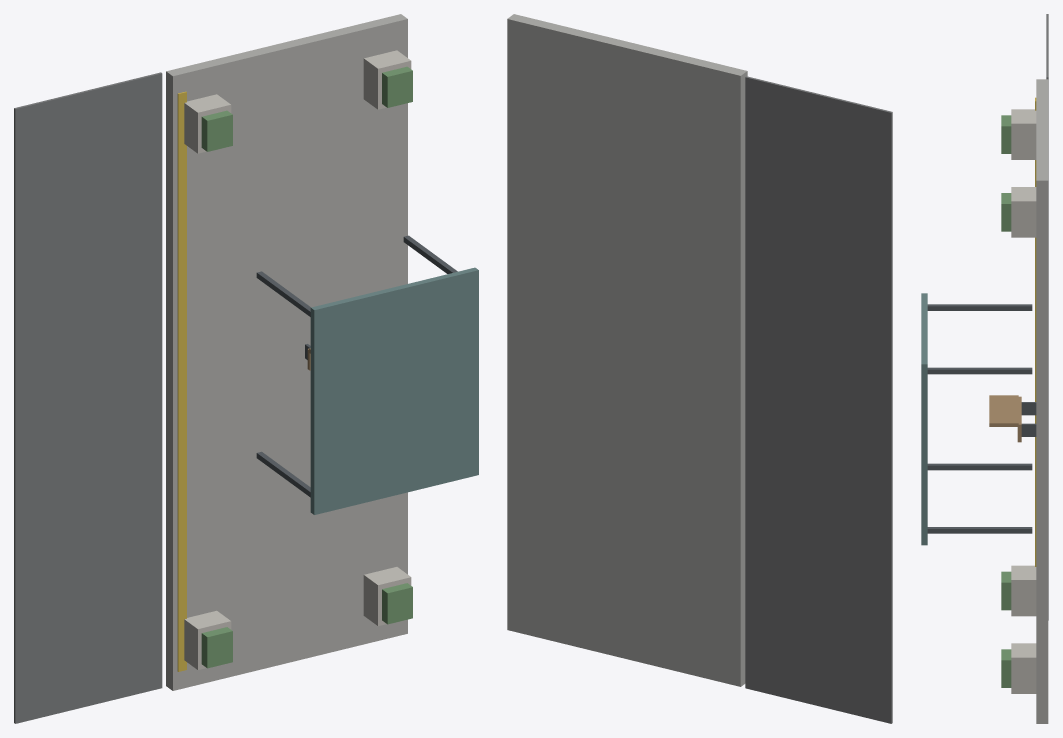
File: neighborhood_bus_bay.glb
3 views of the same model, side by side, from view 1: azimuth 30°, elevation 25°; view 2: azimuth 150°, elevation 25°; view 3: azimuth 270°, elevation 25° (orthographic). The views are drawn at different scales.
Parts seen in each view (by area): view 1: 0000_Paved_stop_platform, 0002_Bus_asphalt_lane, 0003_Canopy_roof, 0001_Yellow_accessible_edge, 0016_Planter_box, 0018_Planter_box, 0014_Planter_box, 0012_Planter_box, 0013_Plants, 0015_Plants, 0019_Plants, 0017_Plants; view 2: 0000_Paved_stop_platform, 0002_Bus_asphalt_lane; view 3: 0000_Paved_stop_platform, 0003_Canopy_roof, 0012_Planter_box, 0016_Planter_box, 0018_Planter_box, 0014_Planter_box, 0009_Bench_back, 0004_Post, 0007_Post, 0005_Post, 0006_Post, 0002_Bus_asphalt_lane (+5 smaller).
Part boxes in pixels (x1=…): 0000_Paved_stop_platform: x1=166, y1=14, x2=407, y2=690; 0002_Bus_asphalt_lane: x1=14, y1=72, x2=162, y2=723; 0003_Canopy_roof: x1=310, y1=267, x2=478, y2=514; 0001_Yellow_accessible_edge: x1=177, y1=91, x2=186, y2=671; 0016_Planter_box: x1=363, y1=567, x2=411, y2=625; 0018_Planter_box: x1=363, y1=50, x2=411, y2=109; 0014_Planter_box: x1=184, y1=94, x2=231, y2=153; 0012_Planter_box: x1=184, y1=610, x2=231, y2=669; 0013_Plants: x1=201, y1=627, x2=232, y2=668; 0015_Plants: x1=201, y1=110, x2=232, y2=151; 0019_Plants: x1=382, y1=66, x2=412, y2=107; 0017_Plants: x1=382, y1=583, x2=412, y2=624; 0000_Paved_stop_platform: x1=507, y1=14, x2=747, y2=686; 0002_Bus_asphalt_lane: x1=745, y1=76, x2=892, y2=723; 0000_Paved_stop_platform: x1=1036, y1=79, x2=1048, y2=723; 0003_Canopy_roof: x1=921, y1=293, x2=927, y2=545; 0012_Planter_box: x1=1011, y1=565, x2=1036, y2=616; 0016_Planter_box: x1=1011, y1=643, x2=1036, y2=693; 0018_Planter_box: x1=1011, y1=187, x2=1036, y2=237; 0014_Planter_box: x1=1011, y1=109, x2=1036, y2=159; 0009_Bench_back: x1=989, y1=395, x2=1018, y2=426; 0004_Post: x1=927, y1=463, x2=1032, y2=470; 0007_Post: x1=927, y1=367, x2=1032, y2=374; 0005_Post: x1=927, y1=304, x2=1032, y2=310; 0006_Post: x1=927, y1=527, x2=1032, y2=533; 0002_Bus_asphalt_lane: x1=1046, y1=14, x2=1048, y2=620.
Size of the model in its own units: 10.03 by 15 by 3.19.
